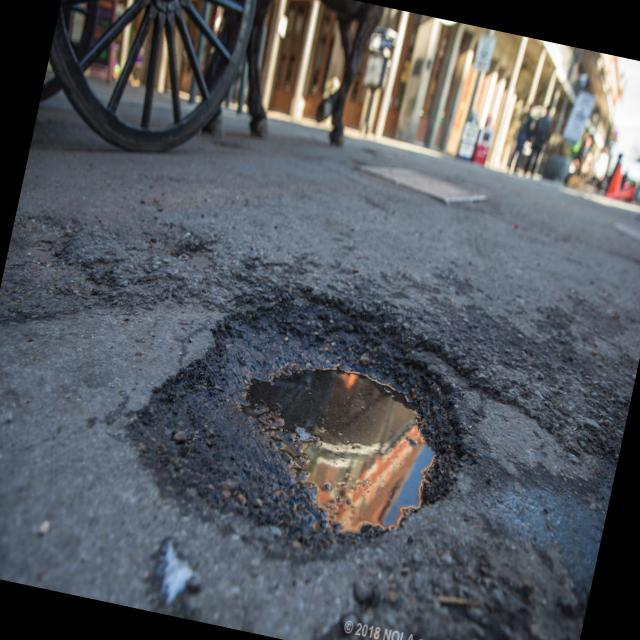Pothole: (109, 248, 513, 582)
